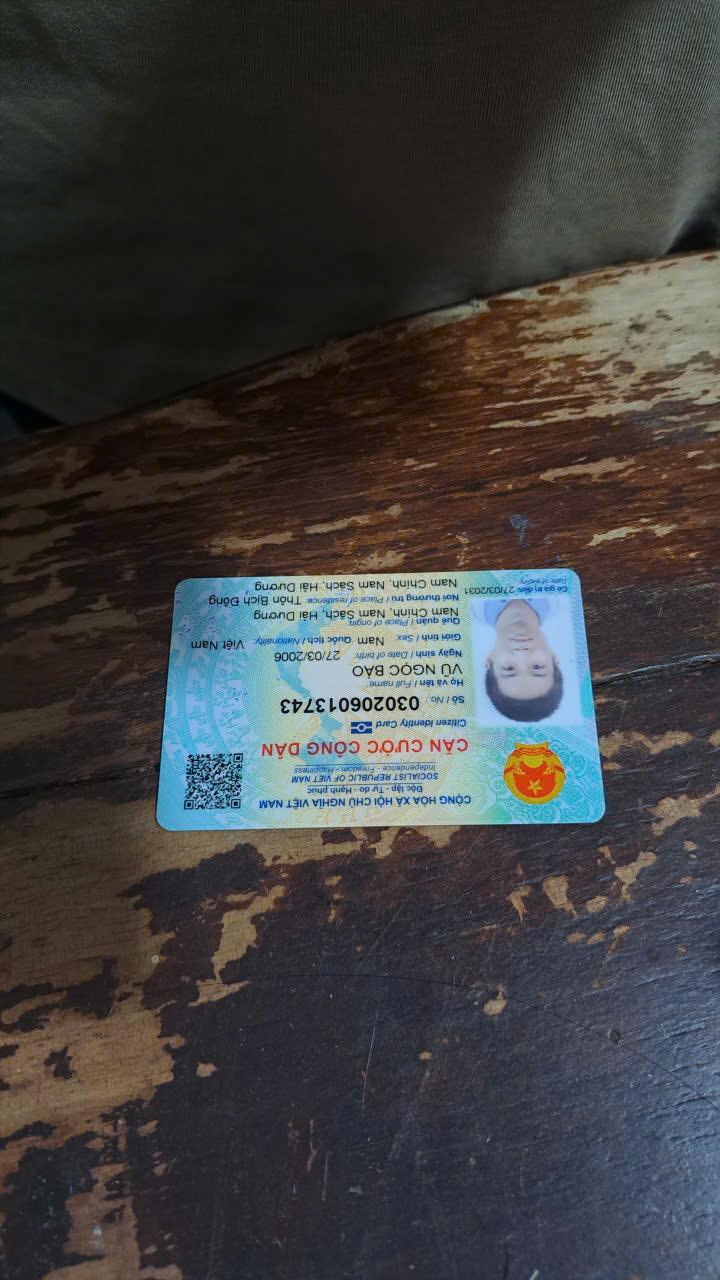cccd: (160, 563, 615, 838)
